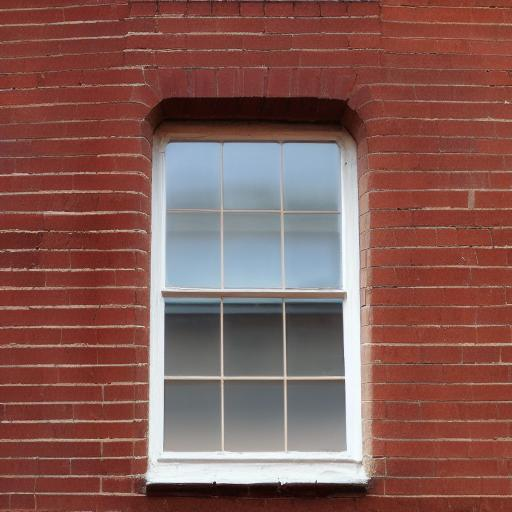Window: (139, 67, 392, 494)
